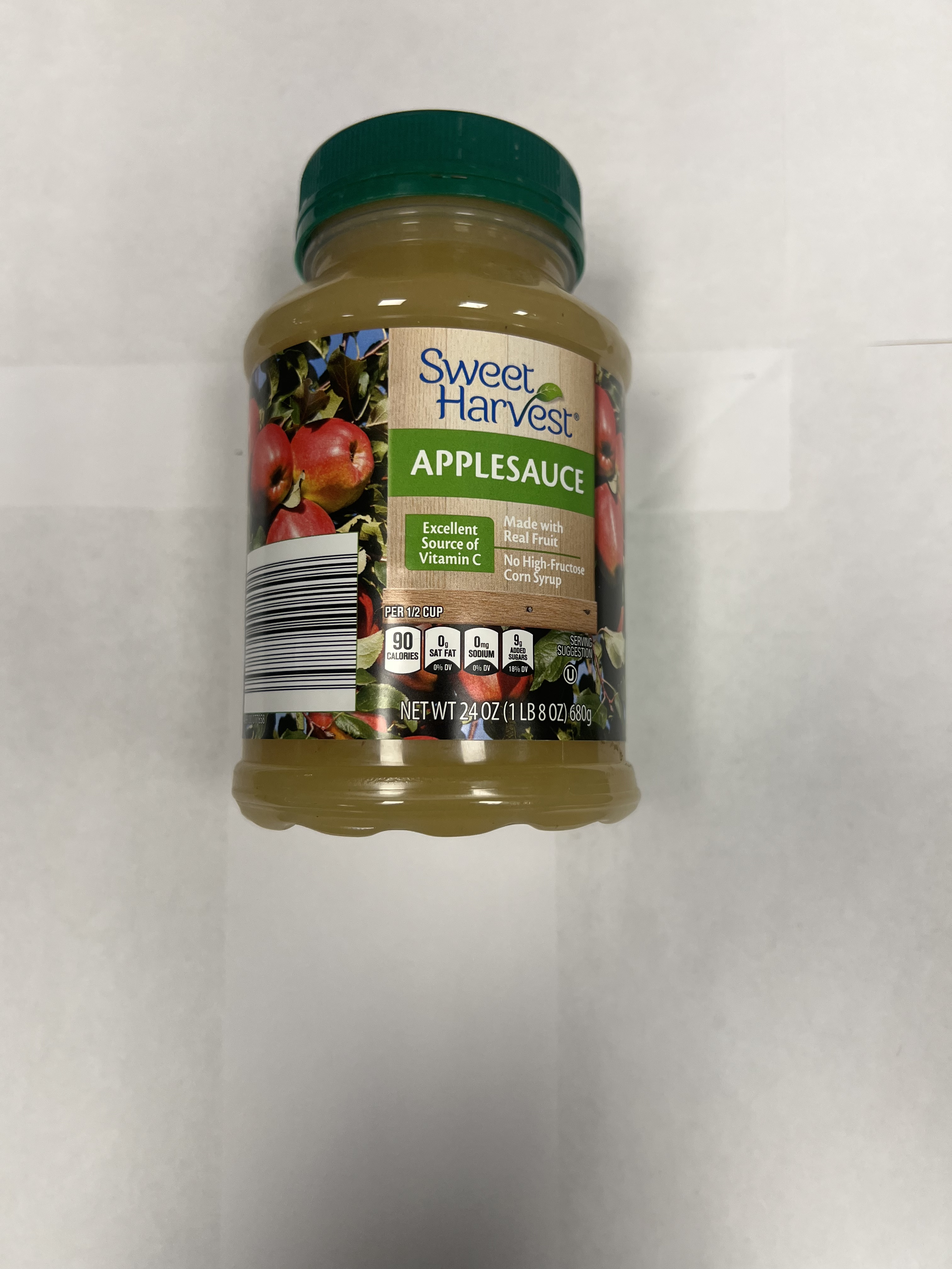packaged: (230, 103, 644, 842)
